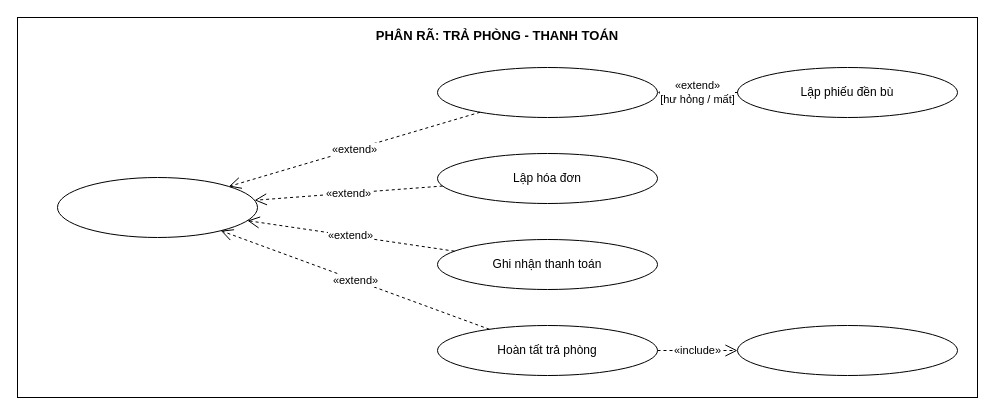
Image size: 995x415. Some labels were removed from this diagram. Here are the shapes that lost their labels. From the top down, the box of each, then its label:
(436, 66, 658, 118): Kiểm tra tiện nghi
(56, 176, 258, 238): Trả phòng - thanh toán
(736, 324, 958, 376): Kiểm tra hóa đơn đã thanh toán
